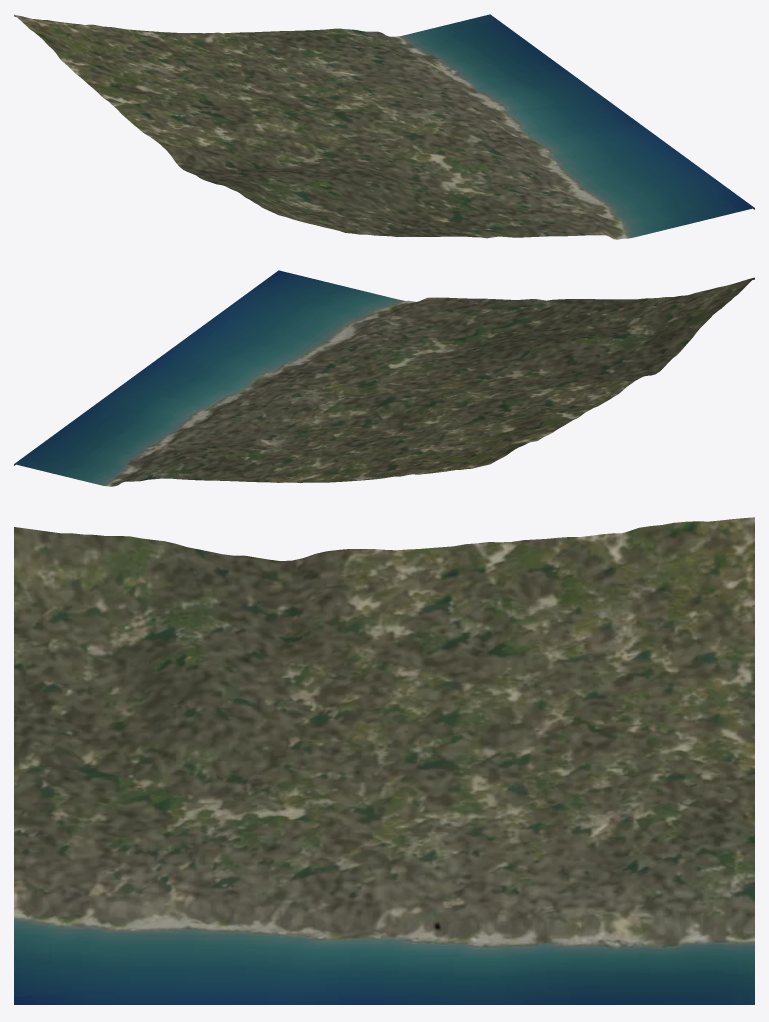
The picture shows the model from 3 angles, top to bottom: view 1: azimuth 30°, elevation 25°; view 2: azimuth 150°, elevation 25°; view 3: azimuth 270°, elevation 25°; orthographic projection. The views are drawn at different scales.
Size of the model in its own units: 250 by 59.13 by 241.
1 material, 1 textured.
